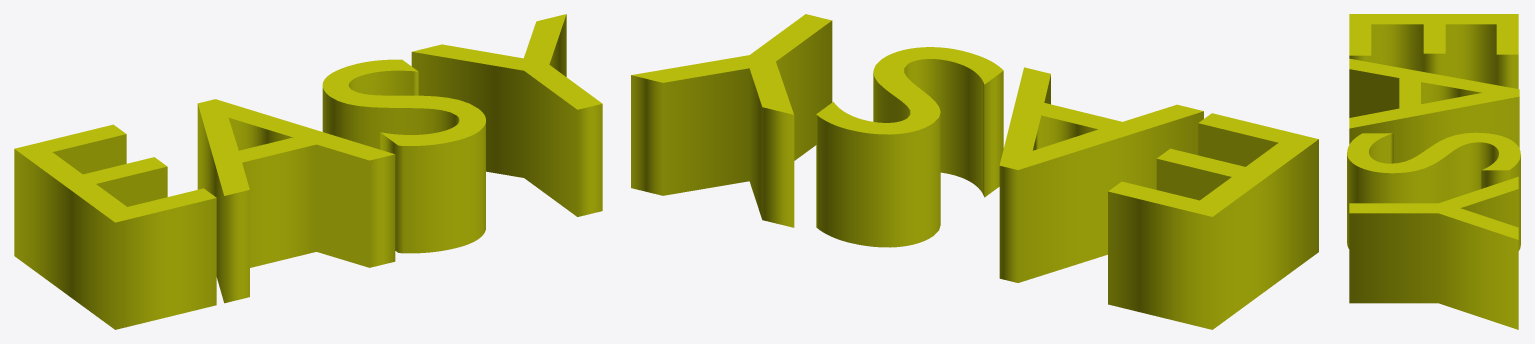
The model's file is easy.fbx.
3 renders of one model, left to right at view 1: azimuth 30°, elevation 25°; view 2: azimuth 150°, elevation 25°; view 3: azimuth 270°, elevation 25°, orthographic. The views are drawn at different scales.
Visible parts, largest first — view 1: テキスト; view 2: テキスト; view 3: テキスト.
Boxes of the visible parts, x1,y1,x2,y2 form: テキスト: (14, 14, 602, 329); テキスト: (631, 14, 1318, 329); テキスト: (1347, 14, 1520, 329).
Size of the model in its own units: 2.15 by 0.4 by 0.7.
